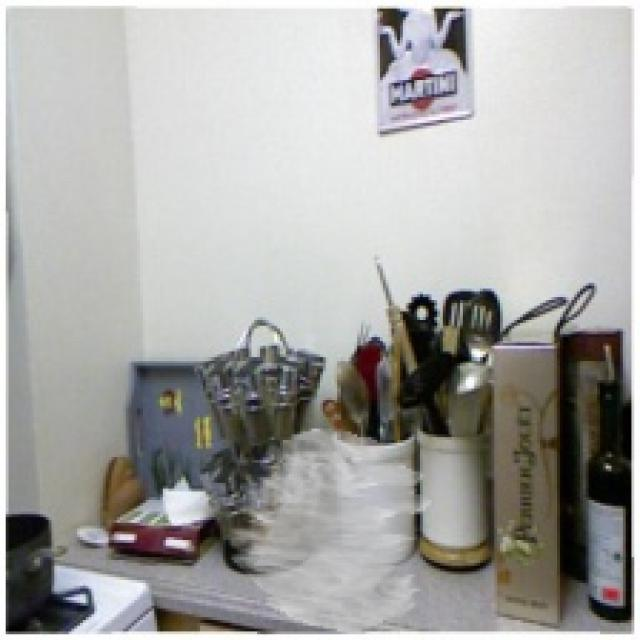smoke: (228, 428, 432, 632)
